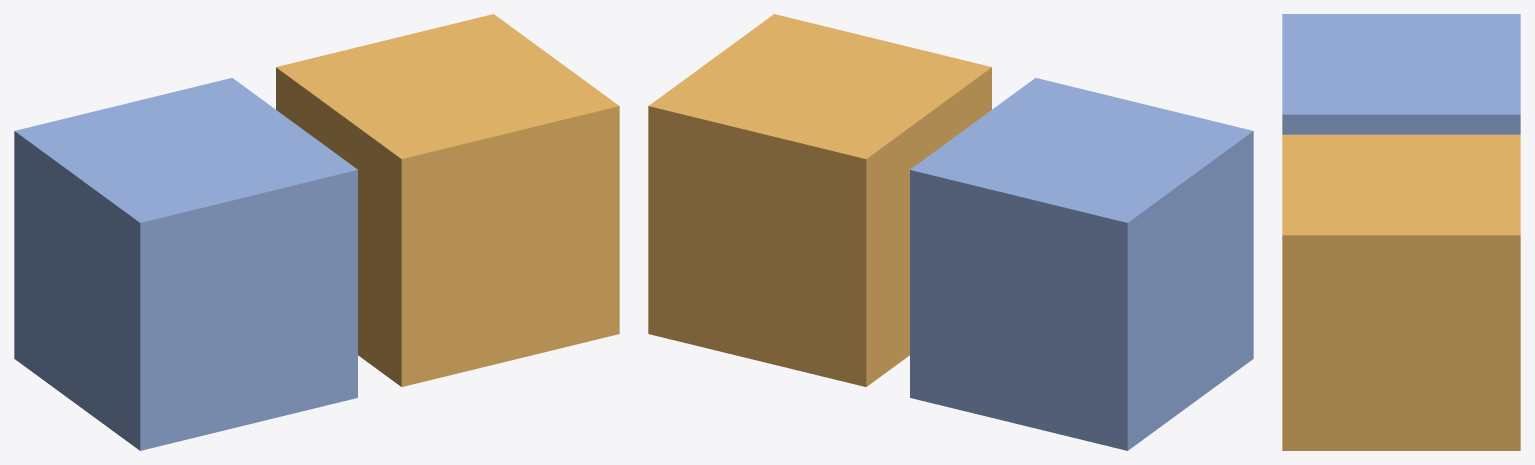
The model's file is two_parts.gltf.
3 renders of one model, left to right at view 1: azimuth 30°, elevation 25°; view 2: azimuth 150°, elevation 25°; view 3: azimuth 270°, elevation 25°, orthographic. The views are drawn at different scales.
Visible parts, largest first — view 1: TwoParts; view 2: TwoParts; view 3: TwoParts.
Part boxes in pixels (x1,y1,x2,y2): TwoParts: (14, 14, 619, 450); TwoParts: (648, 14, 1253, 450); TwoParts: (1282, 14, 1520, 450).
Bounding box in the file's own units: 2.2 × 1 × 1.
